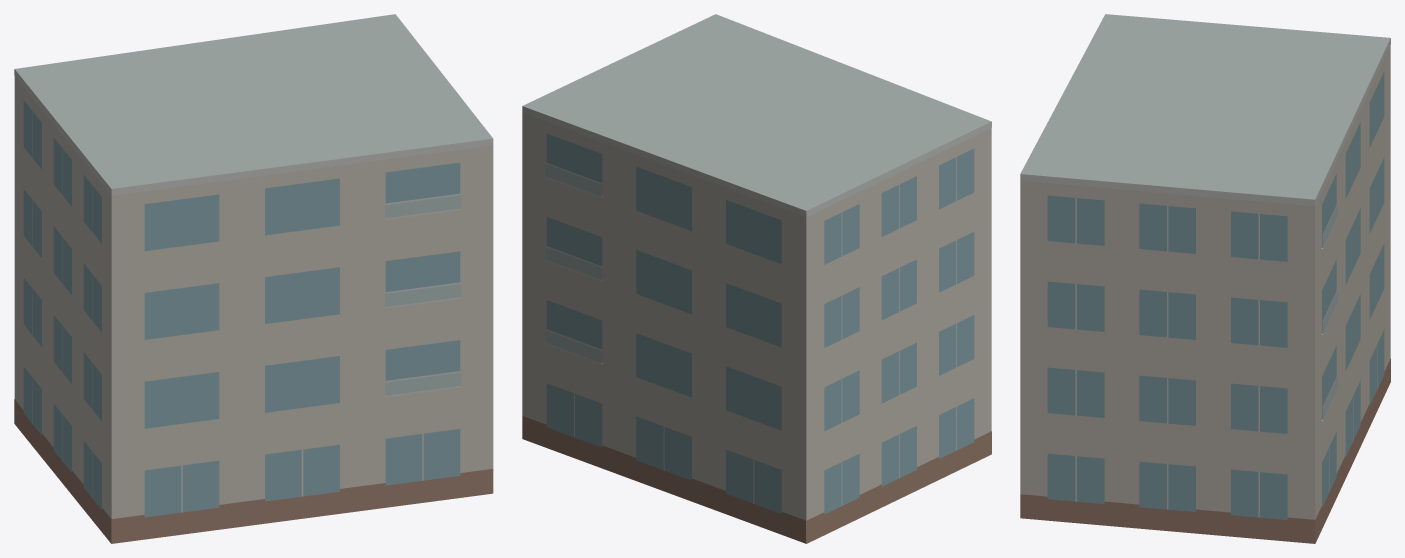
Rendered from survey-upis-32663582.glb.
3 renders of one model, left to right at view 1: azimuth 30°, elevation 25°; view 2: azimuth 150°, elevation 25°; view 3: azimuth 270°, elevation 25°, orthographic. The views are drawn at different scales.
Visible parts, largest first — view 1: survey-upis-32663582.tmp; view 2: survey-upis-32663582.tmp; view 3: survey-upis-32663582.tmp.
Boxes of the visible parts, bbox=[...] form: survey-upis-32663582.tmp: bbox=[14, 14, 493, 543]; survey-upis-32663582.tmp: bbox=[522, 14, 991, 543]; survey-upis-32663582.tmp: bbox=[1020, 14, 1390, 543].
Bounding box in the file's own units: 14.82 × 12.8 × 12.5.
